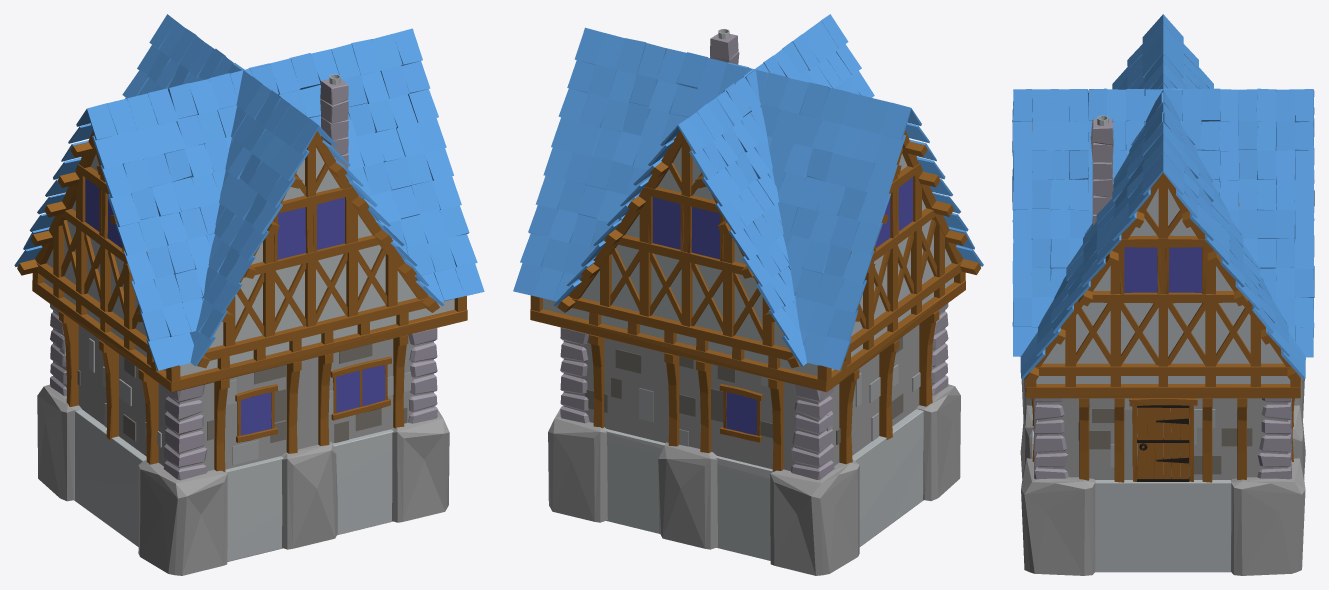
The model's file is MidelHouse.fbx.
The picture shows the model from 3 angles, left to right: view 1: azimuth 30°, elevation 25°; view 2: azimuth 150°, elevation 25°; view 3: azimuth 270°, elevation 25°; orthographic projection.
Parts seen in each view (by area): view 1: House3; view 2: House3; view 3: House3.
Boxes of the visible parts, bbox=[...] form: House3: bbox=[14, 14, 484, 575]; House3: bbox=[513, 14, 983, 575]; House3: bbox=[1012, 14, 1314, 575].
Size of the model in its own units: 1039 by 1285 by 839.
